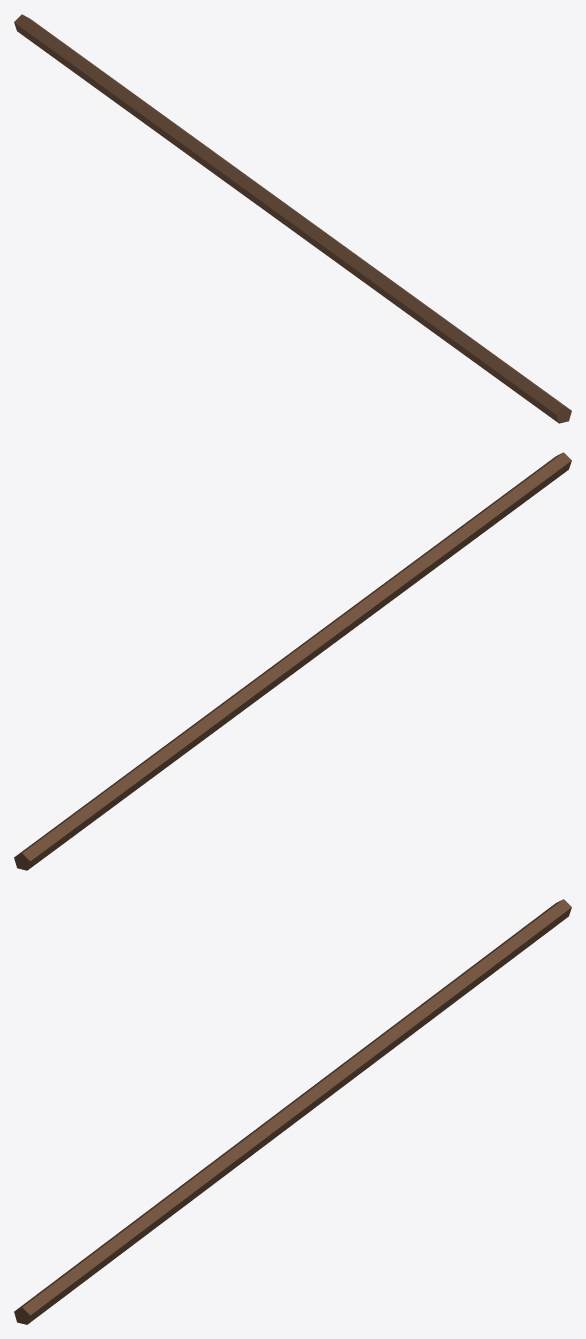
Rendered from iron rode big.fbx.
3 views of the same model, one above another, from view 1: azimuth 30°, elevation 25°; view 2: azimuth 150°, elevation 25°; view 3: azimuth 330°, elevation 25° (orthographic). The views are drawn at different scales.
Visible parts, largest first — view 1: SM_Prop_Rebar_Stack_02; view 2: SM_Prop_Rebar_Stack_02; view 3: SM_Prop_Rebar_Stack_02.
Part boxes in pixels (box(x1,y1,x2,y2)): SM_Prop_Rebar_Stack_02: box(14, 14, 571, 423); SM_Prop_Rebar_Stack_02: box(14, 452, 571, 870); SM_Prop_Rebar_Stack_02: box(14, 899, 571, 1324).
Size of the model in its own units: 15.66 by 12.03 by 601.
Materials: 1 (1 with a texture image).
